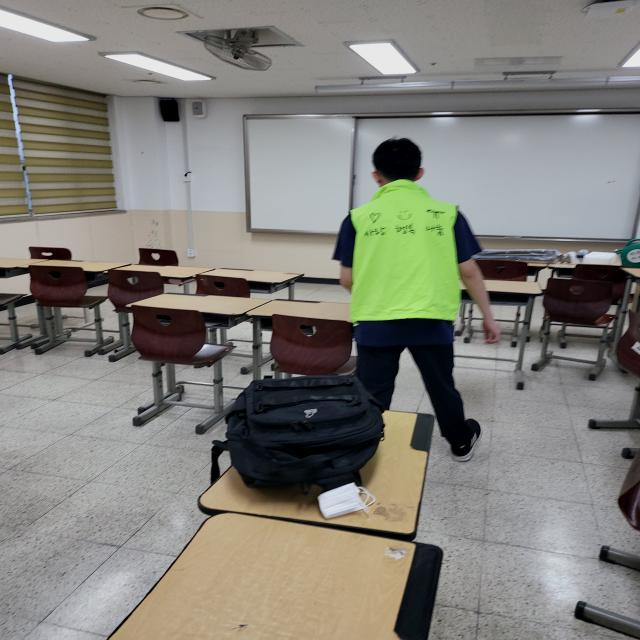weston_spy: (312, 181, 497, 343)
